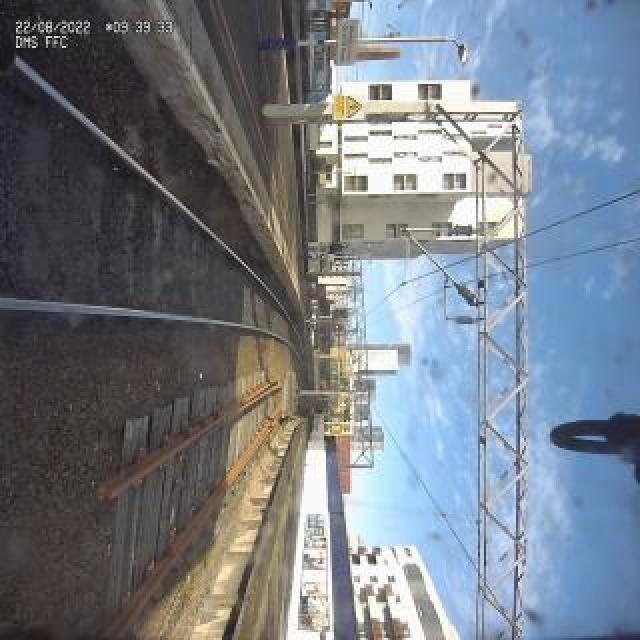Station-lights-ON: (457, 40, 469, 70)
